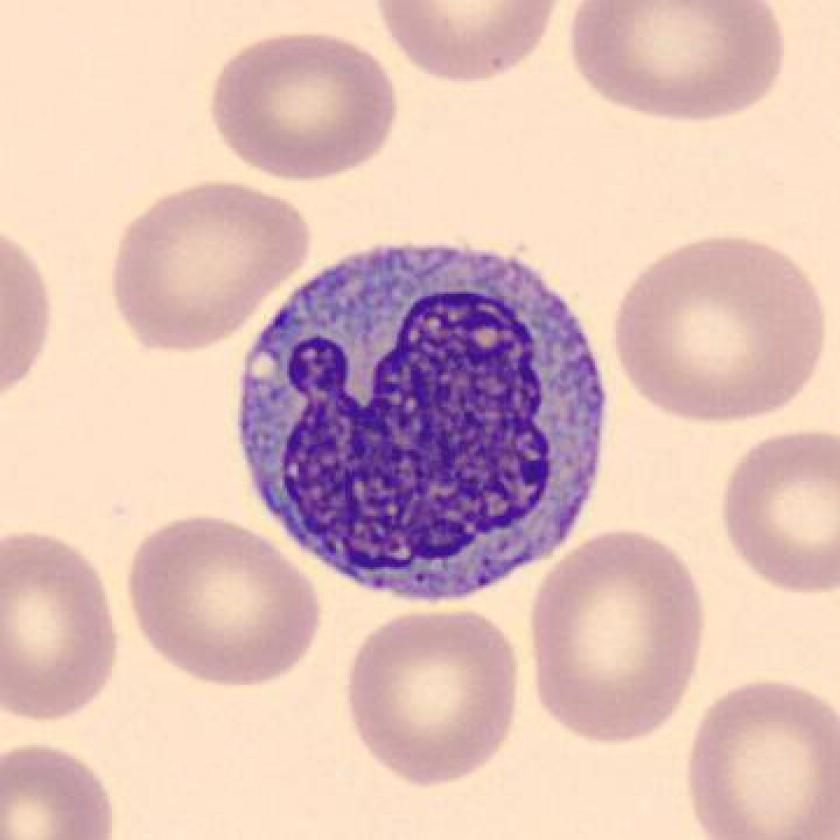monocyte: (218, 228, 640, 617)
